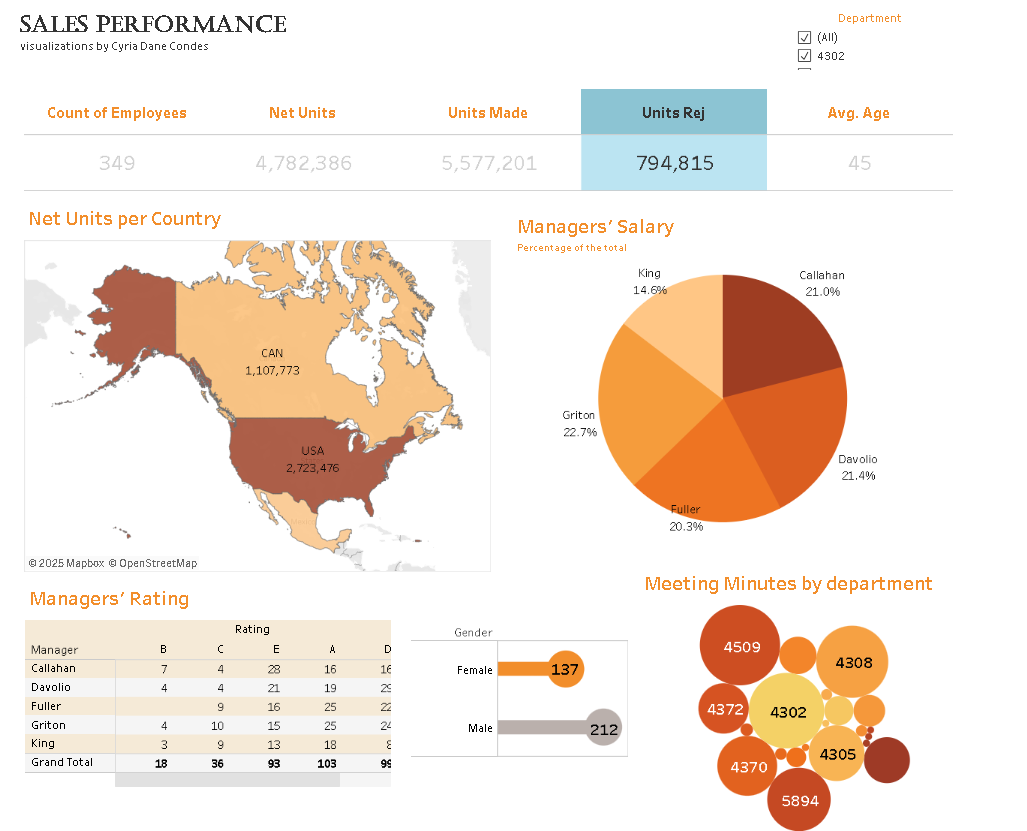

The dashboard page shown, as its layout file describes it:
{"tool":"tableau","page":{"name":"Dashboard 2","canvas":[1050,900],"ordinal":0},"visuals":[{"type":"title","box":[8,8,1034,66]},{"type":"filter","title":"Sheet 3","param":"[federated.0szck9006dpm2w16dnsgb0l7xsop].[none:Department:ok]","box":[838,11,160,64]},{"type":"worksheet","title":"Sheet 1","mark":"Automatic","box":[15.8,94.5,999.6,131.6]},{"type":"worksheet","title":"Sheet 7","mark":"Automatic","box":[16,213,498,397]},{"type":"worksheet","title":"Sheet 3","mark":"Pie","box":[538,221,446,350]},{"type":"worksheet","title":"Sheet 4","mark":"Circle","box":[673,602,350,284]},{"type":"worksheet","title":"Sheet 2","mark":"Automatic","rows":["Gender"],"cols":["Employees_1028277997EC45088569ABAA1DA00C82","Employees_1028277997EC45088569ABAA1DA00C82"],"box":[429,663,231,144]}]}

Visuals, with their boxes on the page's 1050x900 design canvas (x1, y1, x2, y2). These are canvas units, not pixel positions in the 1027x831 screenshot, which may show the page scaled, cropped or inside an application window:
title: l=8, t=8, r=1042, b=74
"Sheet 3" filter: l=838, t=11, r=998, b=75
"Sheet 1" worksheet: l=16, t=94, r=1015, b=226
"Sheet 7" worksheet: l=16, t=213, r=514, b=610
"Sheet 3" worksheet (Pie marks): l=538, t=221, r=984, b=571
"Sheet 4" worksheet (Circle marks): l=673, t=602, r=1023, b=886
"Sheet 2" worksheet: l=429, t=663, r=660, b=807
